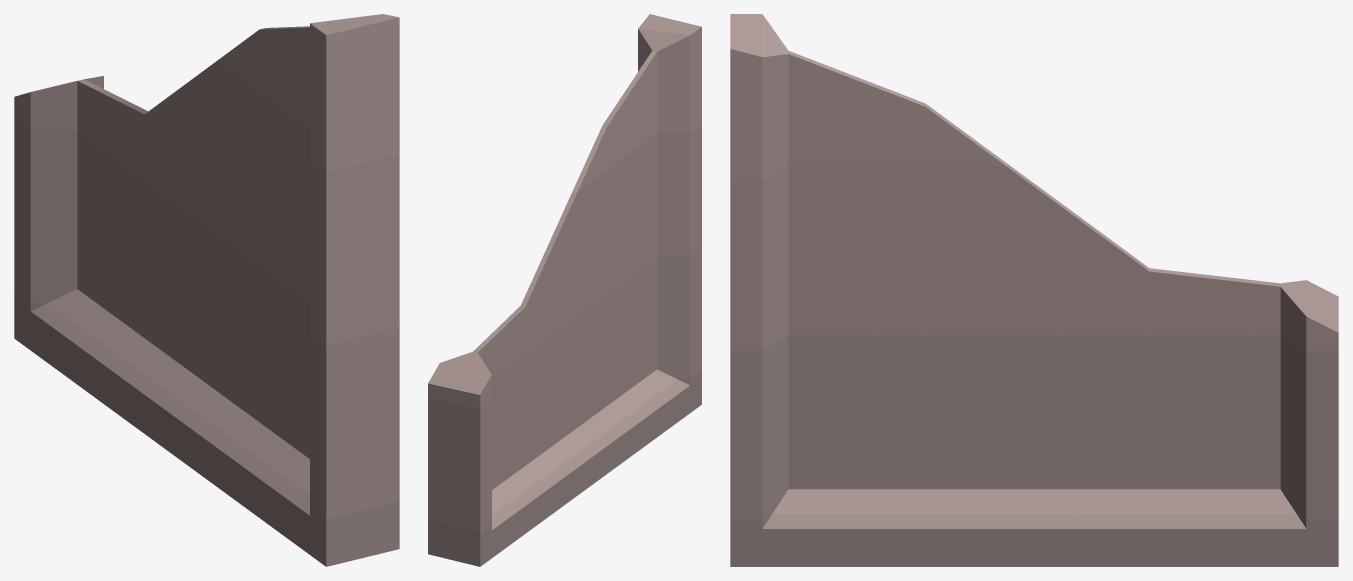
Rendered from SM_Gravestone_00_LH.fbx.
The picture shows the model from 3 angles, left to right: view 1: azimuth 30°, elevation 25°; view 2: azimuth 150°, elevation 25°; view 3: azimuth 270°, elevation 25°; orthographic projection. The views are drawn at different scales.
Visible parts, largest first — view 1: Gravestone_00_00; view 2: Gravestone_00_00; view 3: Gravestone_00_00.
Boxes of the visible parts, <box> form: Gravestone_00_00: <box>14,14,399,566</box>; Gravestone_00_00: <box>428,14,701,566</box>; Gravestone_00_00: <box>730,14,1338,566</box>.
Bounding box in the file's own units: 16.39 × 113 × 121.
1 material, 1 textured.
